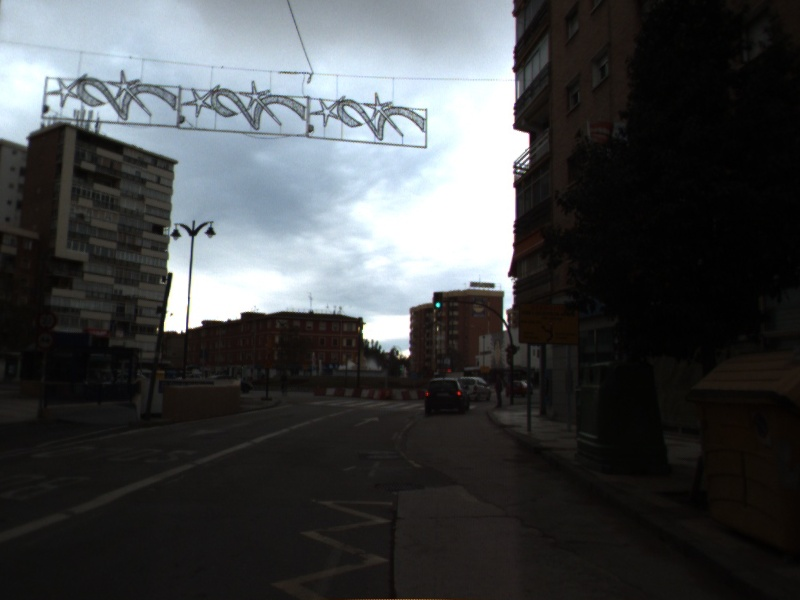STRAIGHT: (352, 415, 381, 428)
